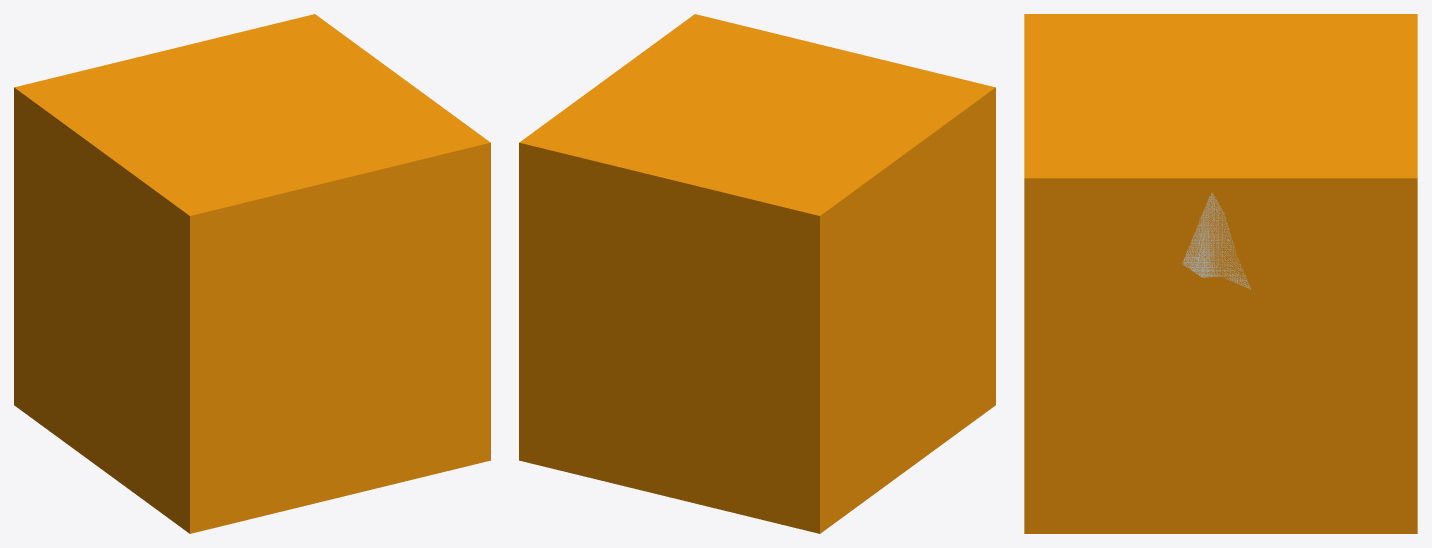
The model's file is Test Block.dae.
3 renders of one model, left to right at view 1: azimuth 30°, elevation 25°; view 2: azimuth 150°, elevation 25°; view 3: azimuth 270°, elevation 25°, orthographic. The views are drawn at different scales.
Parts seen in each view (by area): view 1: group_1, group_0; view 2: group_1, group_0; view 3: group_1, group_0, SketchUp.
Boxes of the visible parts, bbox=[...] form: group_1: bbox=[14, 14, 490, 374]; group_0: bbox=[14, 246, 490, 533]; group_1: bbox=[519, 14, 995, 374]; group_0: bbox=[519, 246, 995, 533]; group_1: bbox=[1024, 14, 1417, 355]; group_0: bbox=[1024, 356, 1417, 533]; SketchUp: bbox=[1182, 192, 1250, 289].
Size of the model in its own units: 25.88 by 26.19 by 26.12.
